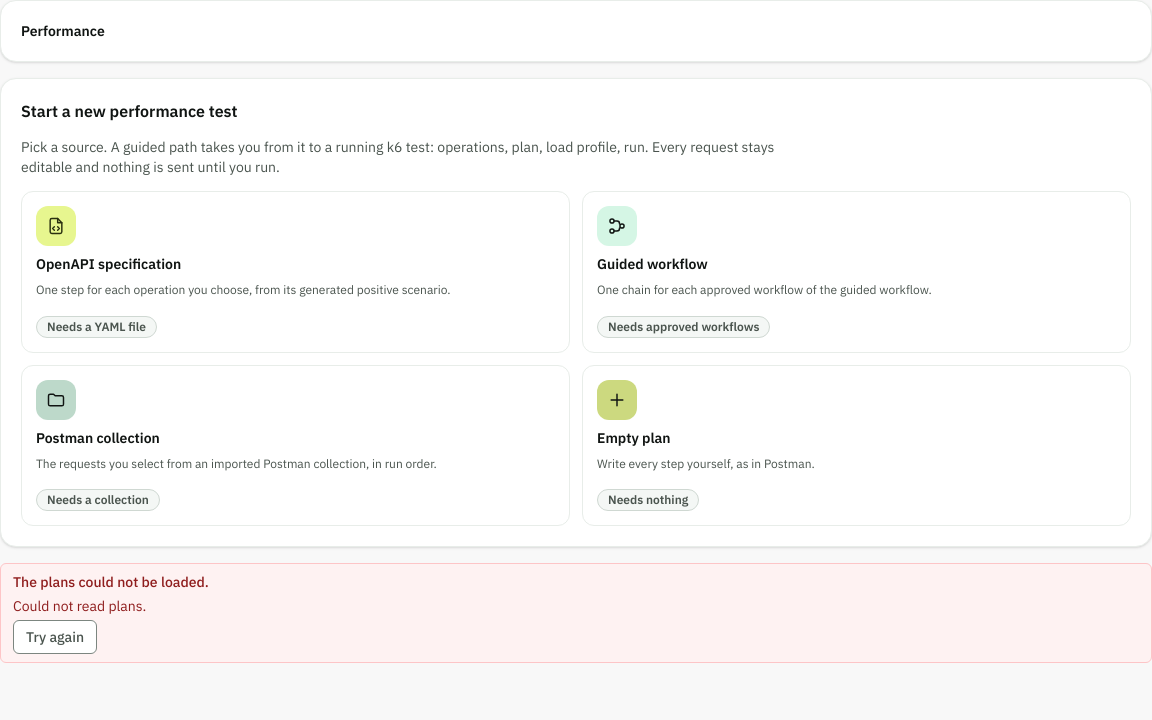
Test: PerformanceHome › shows an error with a retry when the plans cannot be loaded, not an empty list
Check: the message with test id "performance-plans-error" shows "Could not read plans.", box left=13, top=597, right=146, bottom=615
Click the button "Try again" at x=55, y=637, box left=13, top=620, right=97, bottom=654
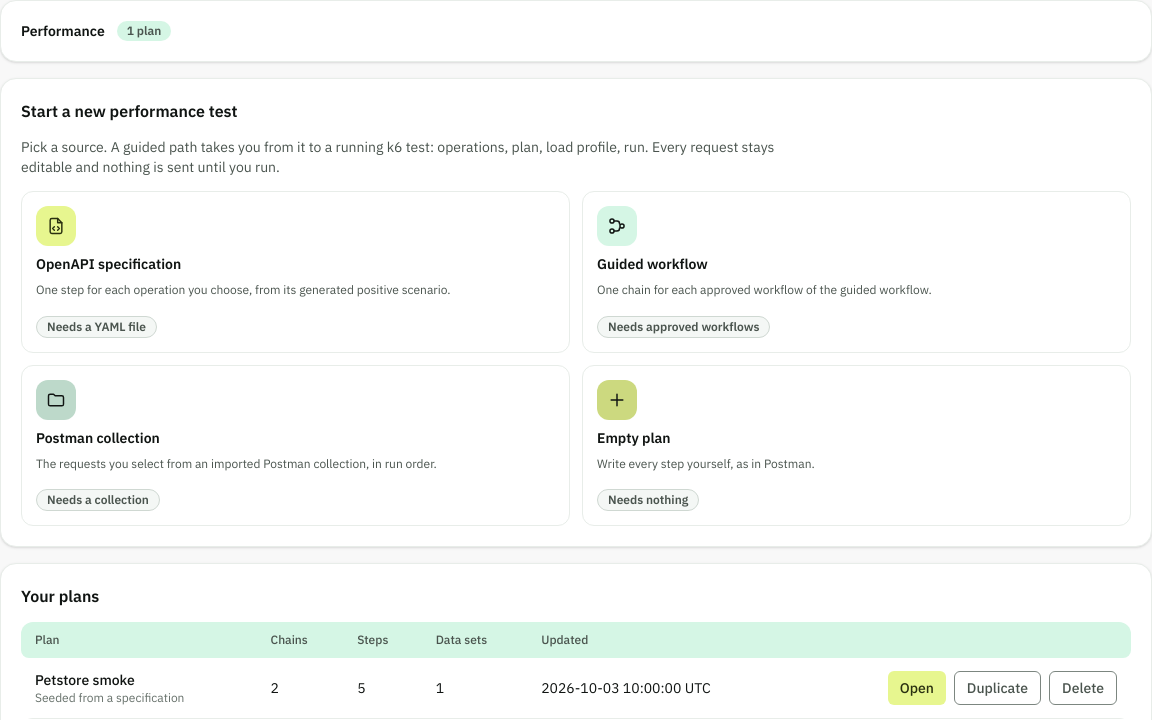
Check: the table named "Saved performance plans" is shown, box left=21, top=622, right=1131, bottom=719
